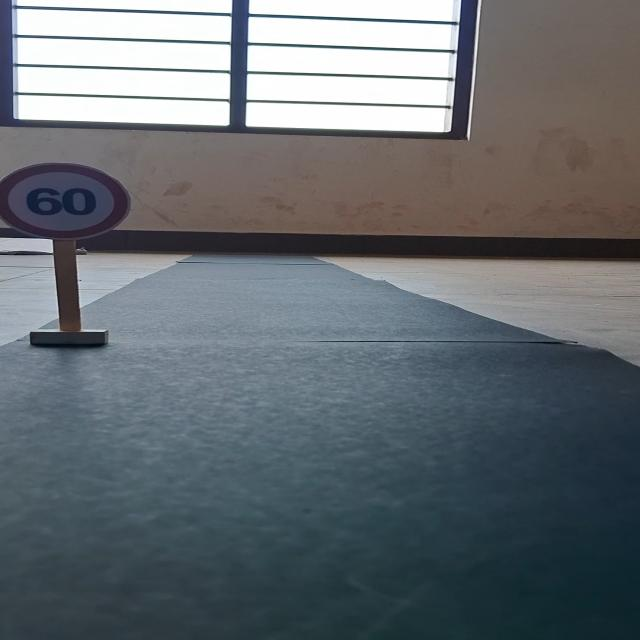Speed60: (0, 163, 130, 243)
